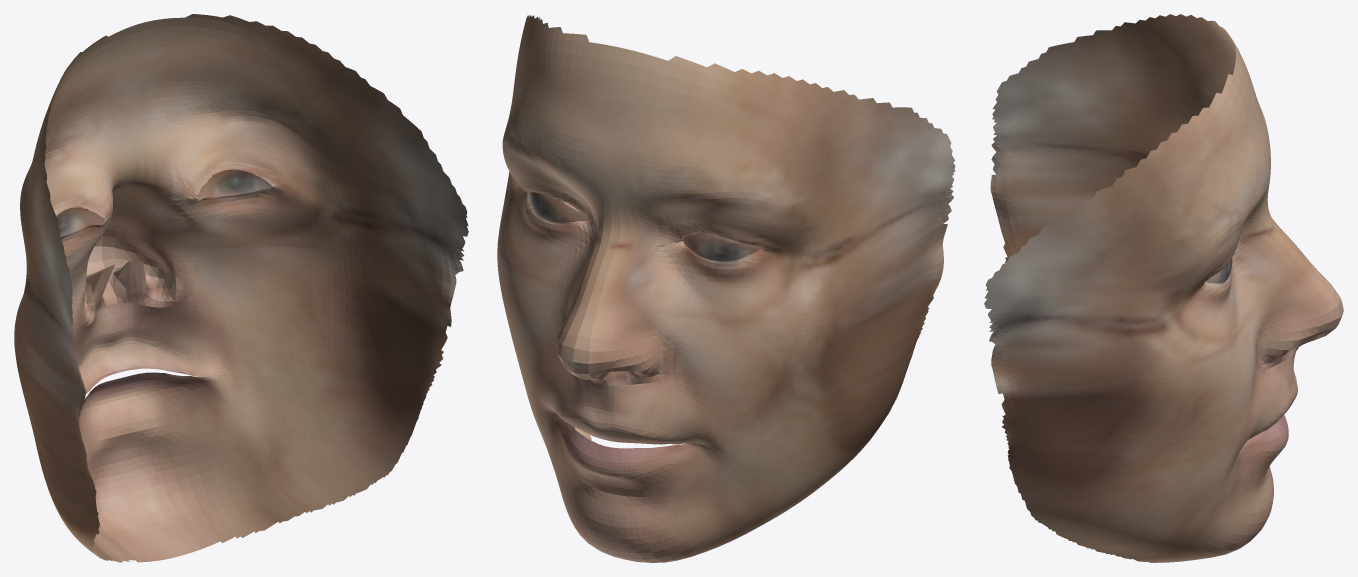
The model's file is 3ddfa_model.glb.
3 views of the same model, side by side, from view 1: azimuth 30°, elevation 25°; view 2: azimuth 150°, elevation 25°; view 3: azimuth 270°, elevation 25° (orthographic). The views are drawn at different scales.
Bounding box in the file's own units: 531 × 663 × 435.
